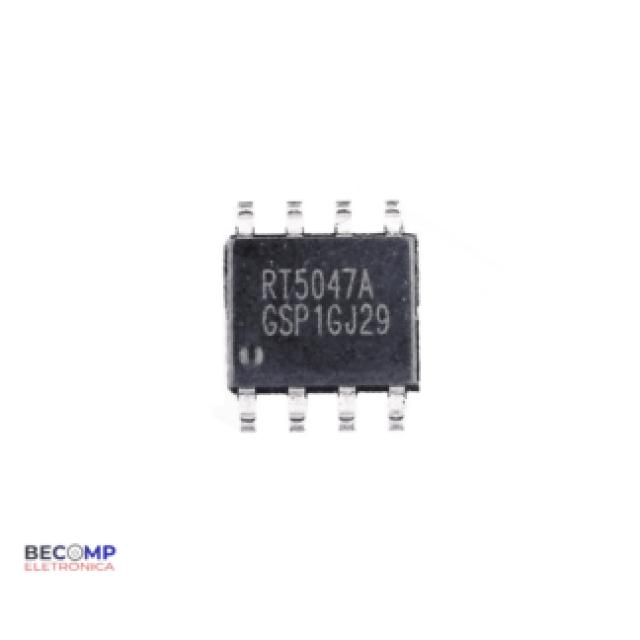IC: (224, 202, 418, 434)
